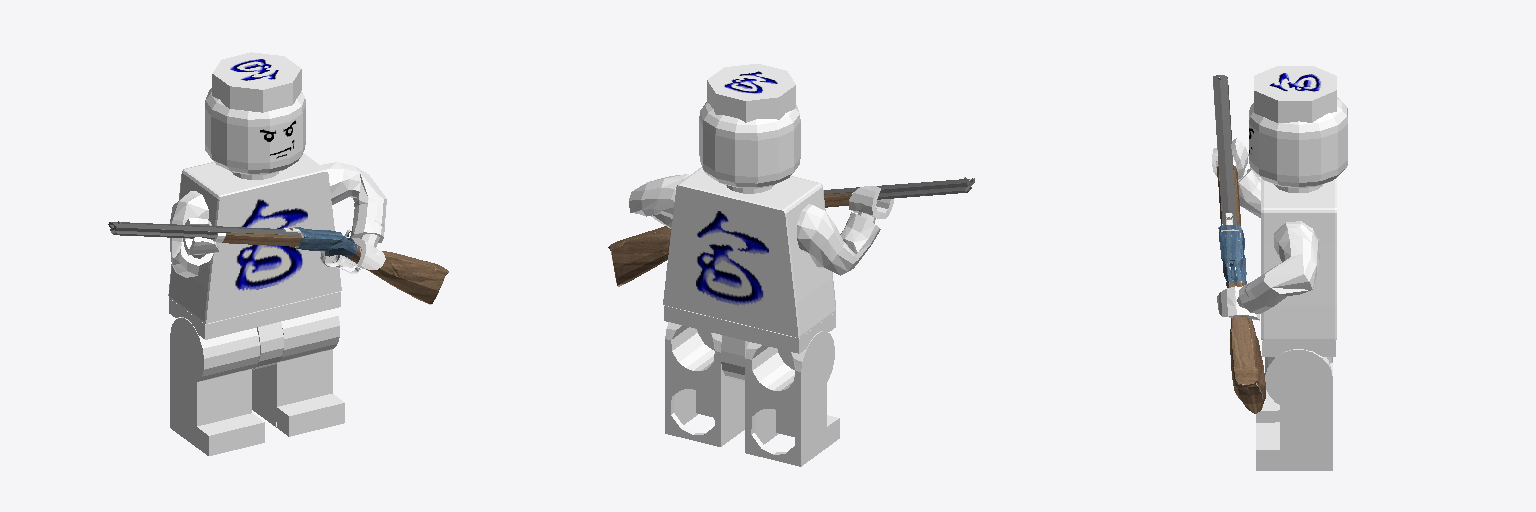
The picture shows the model from 3 angles: view 1: azimuth 30°, elevation 25°; view 2: azimuth 150°, elevation 25°; view 3: azimuth 270°, elevation 25°; orthographic projection.
Visible parts, largest first — view 1: polySurface28, Winchester_Collection:group2 Winchester_Collection:pasted__polyS; view 2: polySurface28, Winchester_Collection:group2 Winchester_Collection:pasted__polyS; view 3: polySurface28, Winchester_Collection:group2 Winchester_Collection:pasted__polyS.
Part boxes in pixels (bbox=[...]): polySurface28: bbox=[168, 52, 386, 455]; Winchester_Collection:group2 Winchester_Collection:pasted__polyS: bbox=[108, 221, 448, 304]; polySurface28: bbox=[629, 64, 894, 466]; Winchester_Collection:group2 Winchester_Collection:pasted__polyS: bbox=[608, 177, 974, 286]; polySurface28: bbox=[1212, 66, 1347, 470]; Winchester_Collection:group2 Winchester_Collection:pasted__polyS: bbox=[1213, 75, 1265, 413].
Size of the model in its own units: 1.65 by 1.6 by 0.5584.
Materials: 1 (1 with a texture image).